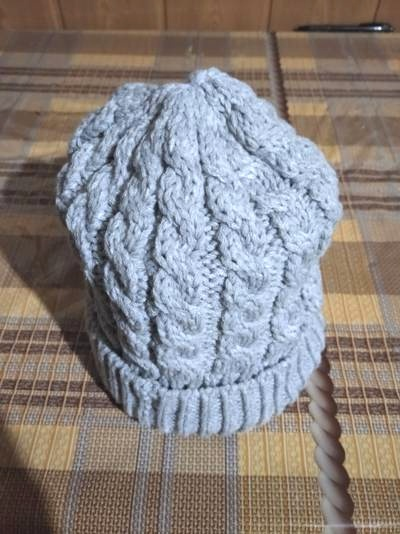Hat: (42, 64, 350, 438)
